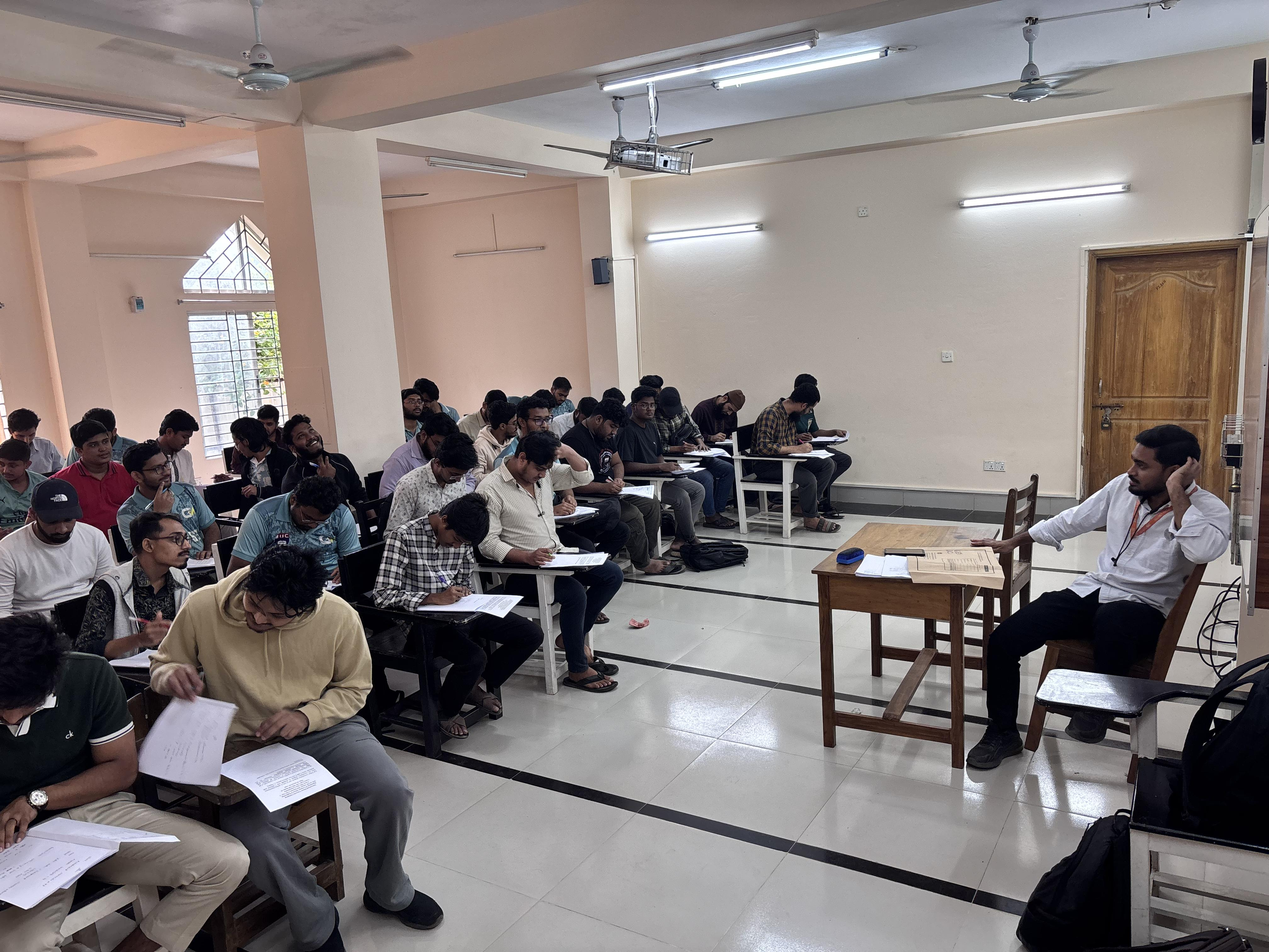copying: (754, 371, 843, 483), (222, 414, 280, 493)
hidden_communication: (137, 538, 364, 820)
invigilator: (958, 406, 1227, 803)
no_cheating: (0, 606, 146, 952), (381, 490, 522, 645), (491, 436, 604, 611), (87, 516, 217, 667), (209, 471, 367, 581), (5, 482, 109, 638), (115, 441, 220, 540), (50, 423, 137, 521), (692, 381, 755, 474), (409, 434, 486, 504), (153, 401, 212, 463), (622, 382, 664, 452), (6, 401, 54, 449), (519, 401, 571, 439), (398, 387, 430, 425)
side_talking: (271, 406, 365, 493), (0, 441, 50, 513)
